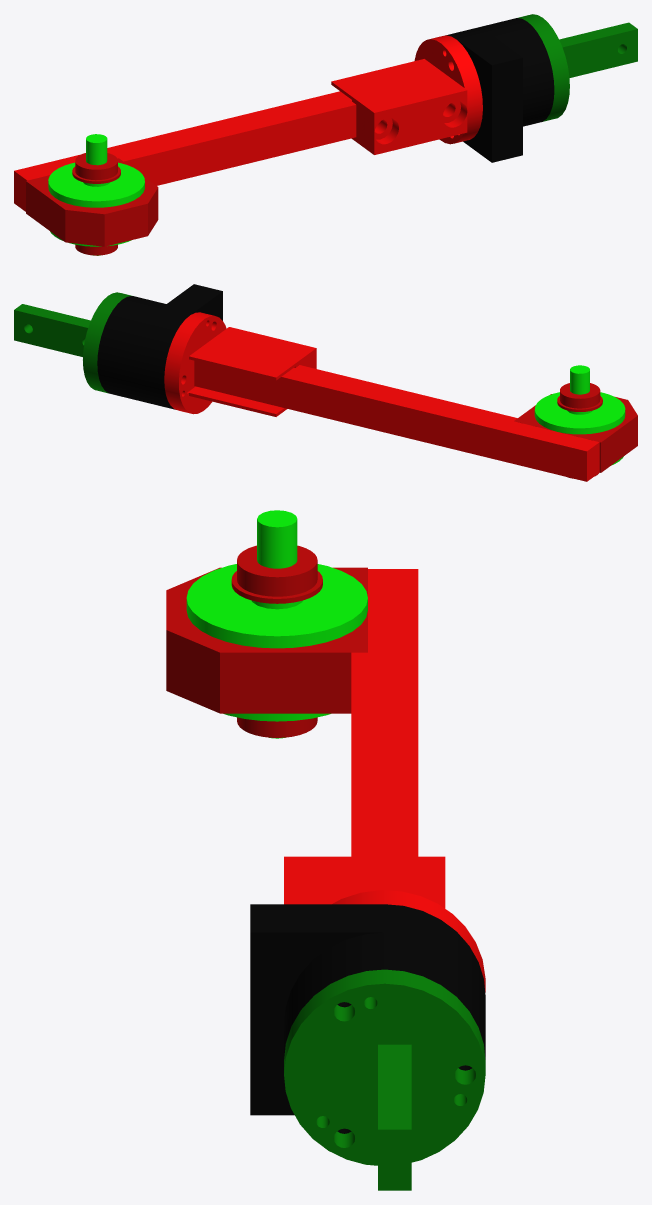
Rendered from MoveR.obj.
3 renders of one model, top to bottom at view 1: azimuth 30°, elevation 25°; view 2: azimuth 150°, elevation 25°; view 3: azimuth 270°, elevation 25°, orthographic. The views are drawn at different scales.
Bounding box in the file's own units: 0.198 × 0.035 × 0.0475.
